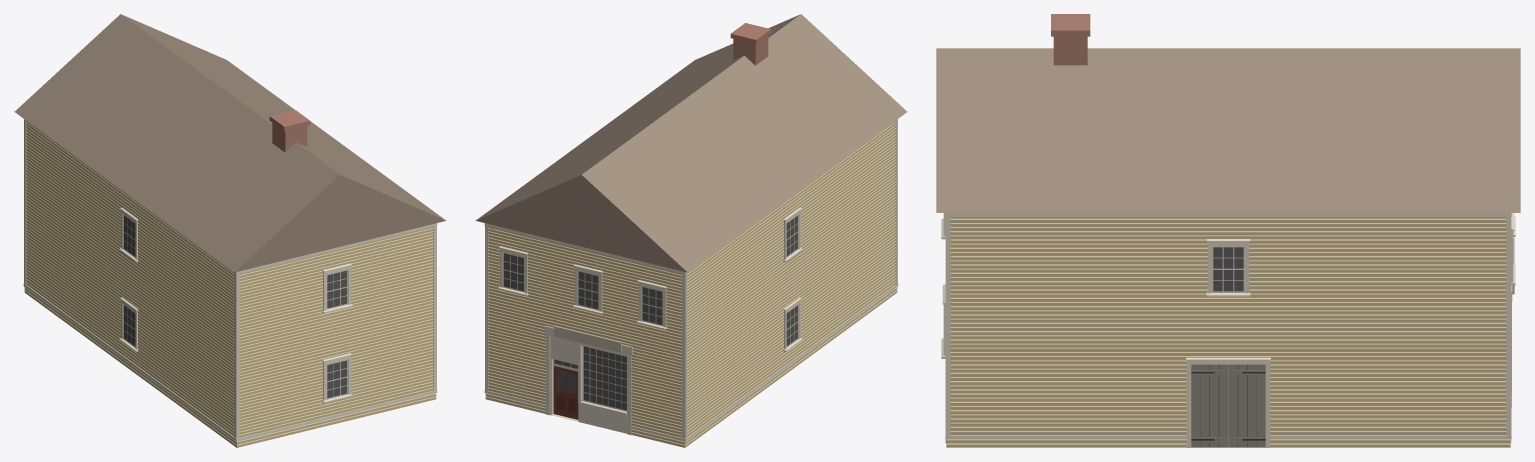
Rendered from recon_1835_gifford_c3_008__inferred_1835.glb.
The picture shows the model from 3 angles, left to right: view 1: azimuth 30°, elevation 25°; view 2: azimuth 150°, elevation 25°; view 3: azimuth 270°, elevation 25°; orthographic projection. The views are drawn at different scales.
Visible parts, largest first — view 1: recon_1835_gifford_c3_008__inferred_1835; view 2: recon_1835_gifford_c3_008__inferred_1835; view 3: recon_1835_gifford_c3_008__inferred_1835.
Part boxes in pixels (bbox=[...]): recon_1835_gifford_c3_008__inferred_1835: bbox=[14, 14, 446, 447]; recon_1835_gifford_c3_008__inferred_1835: bbox=[475, 14, 907, 447]; recon_1835_gifford_c3_008__inferred_1835: bbox=[936, 14, 1520, 447].
Size of the model in its own units: 8.1 by 9.87 by 14.5.
